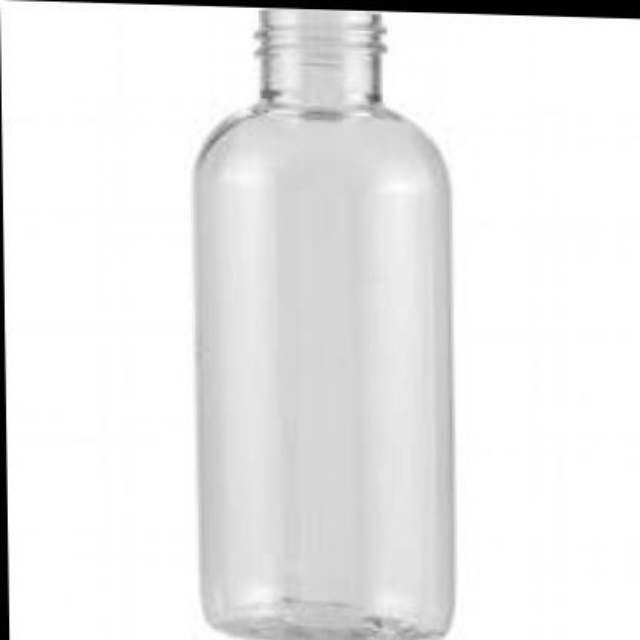trash: (195, 9, 452, 638)
